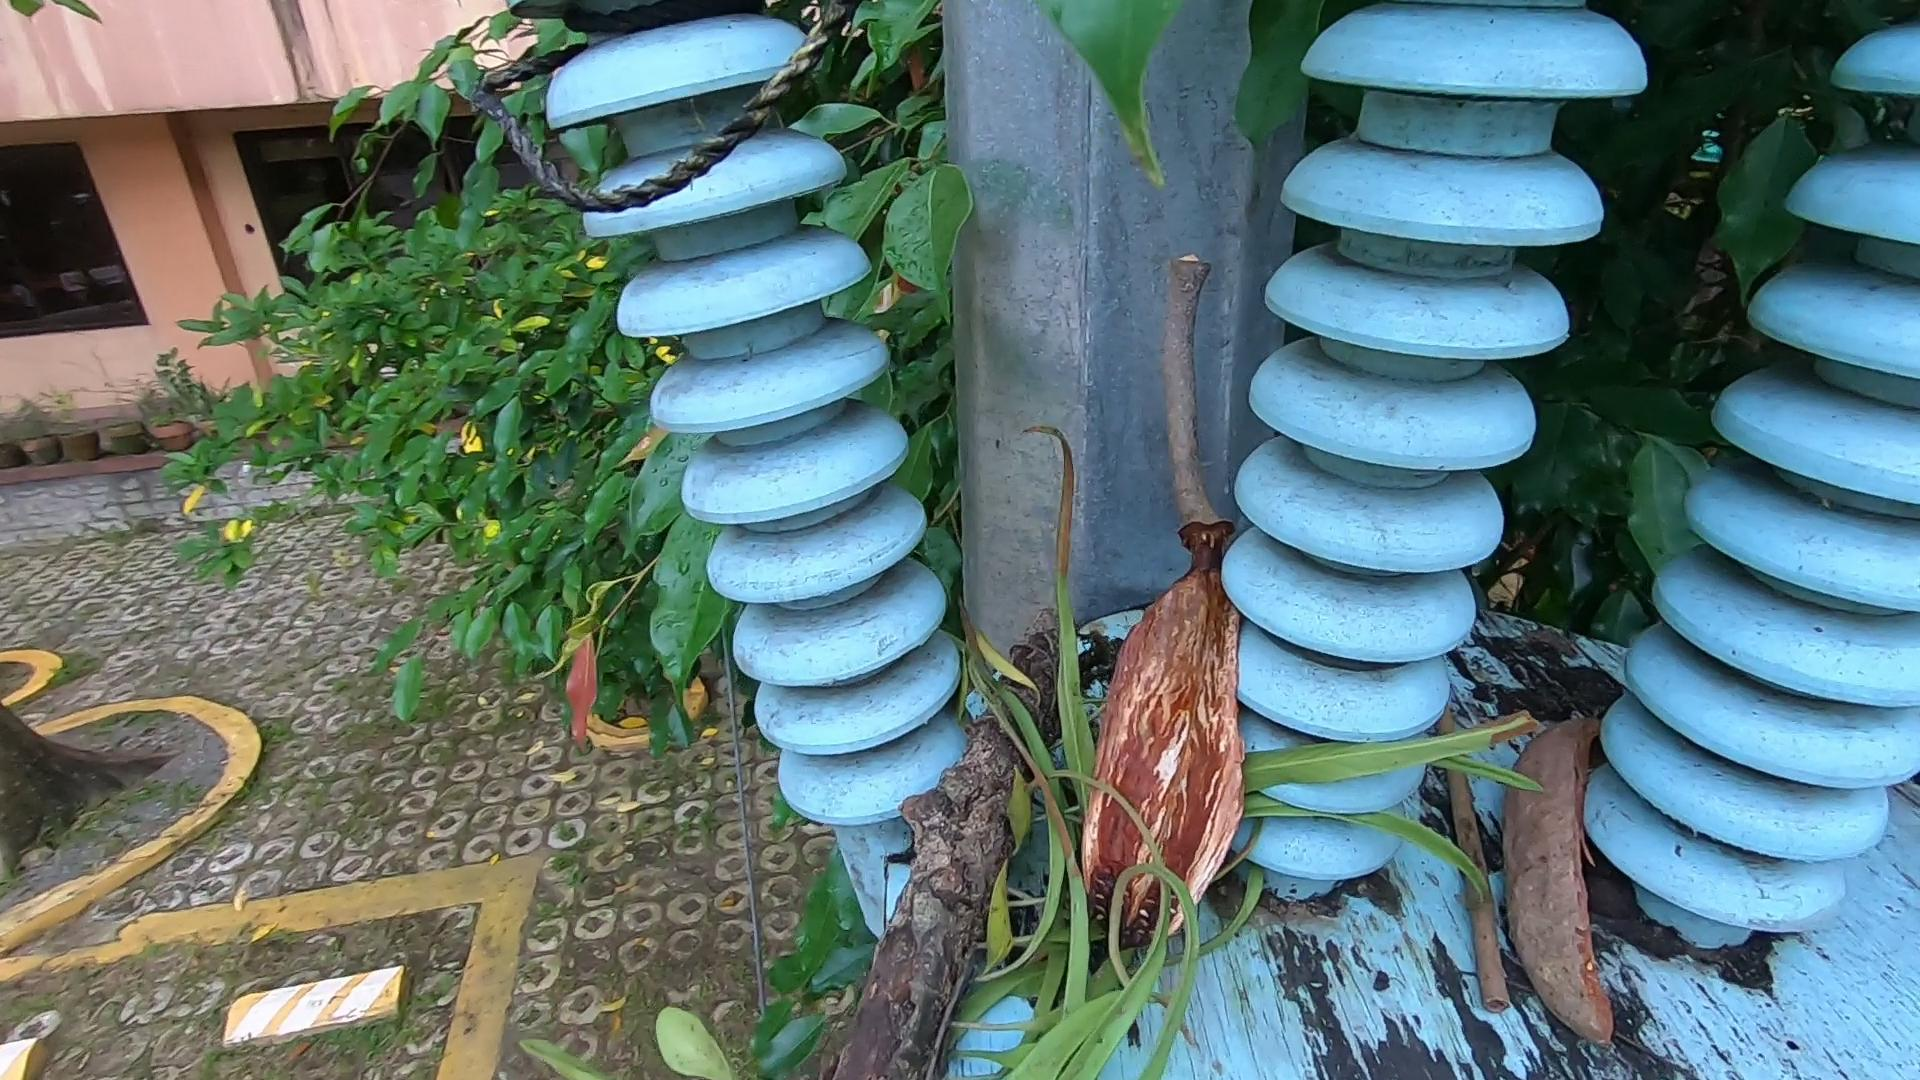branch with leaves: (518, 382, 1548, 1080)
mahogany fruit: (986, 549, 1353, 967), (1491, 696, 1618, 992)
tree branch: (1143, 233, 1274, 538), (1433, 707, 1563, 1011)
